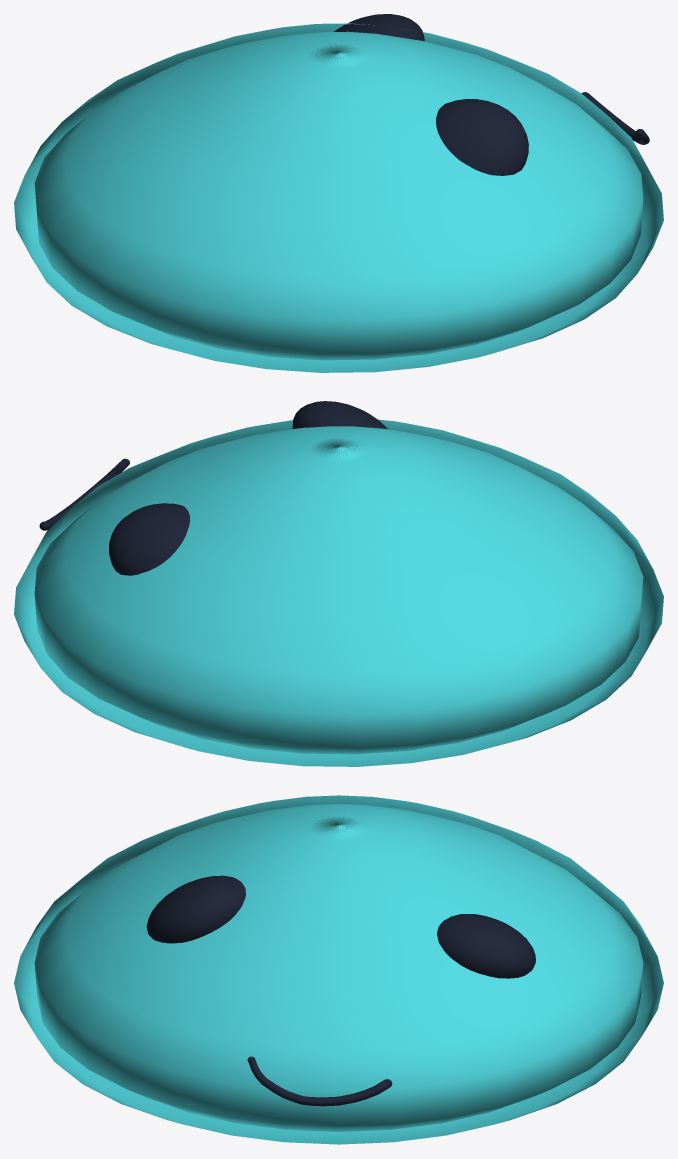
Rendered from SlimePlainTeal.glb.
3 renders of one model, top to bottom at view 1: azimuth 30°, elevation 25°; view 2: azimuth 150°, elevation 25°; view 3: azimuth 270°, elevation 25°, orthographic.
Parts seen in each view (by area): view 1: InnerSkin; view 2: InnerSkin; view 3: InnerSkin.
Boxes of the visible parts, bbox=[...] form: InnerSkin: bbox=[14, 14, 663, 372]; InnerSkin: bbox=[14, 401, 663, 766]; InnerSkin: bbox=[14, 795, 663, 1144].
Size of the model in its own units: 0.8942 by 0.3098 by 0.8899.
